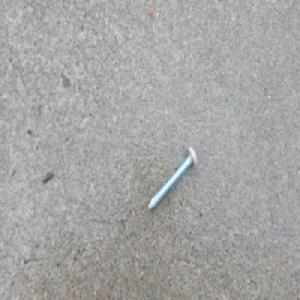Nail: (145, 146, 198, 215)
